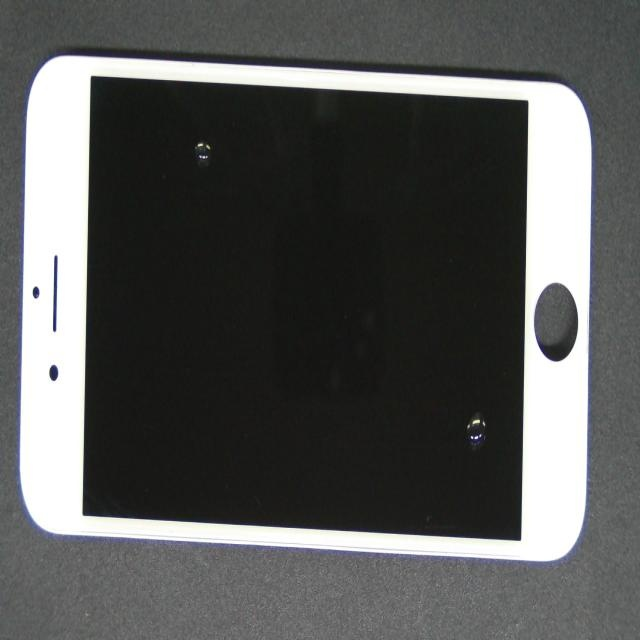oil: (251, 190, 640, 608), (121, 60, 313, 204)
